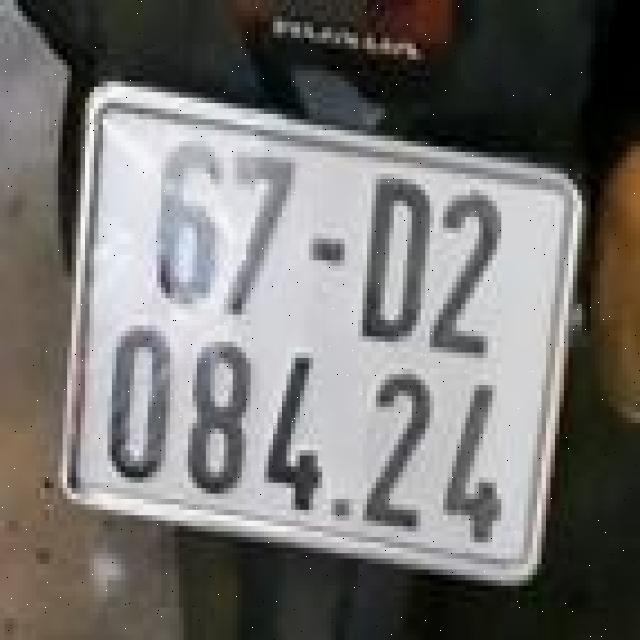0: (100, 320, 176, 488)
2: (430, 176, 506, 372), (358, 360, 439, 540)
4: (266, 331, 334, 515), (450, 374, 512, 553)
6: (224, 136, 300, 320), (154, 136, 222, 309)
8: (186, 331, 262, 499)
D: (354, 168, 438, 353)
